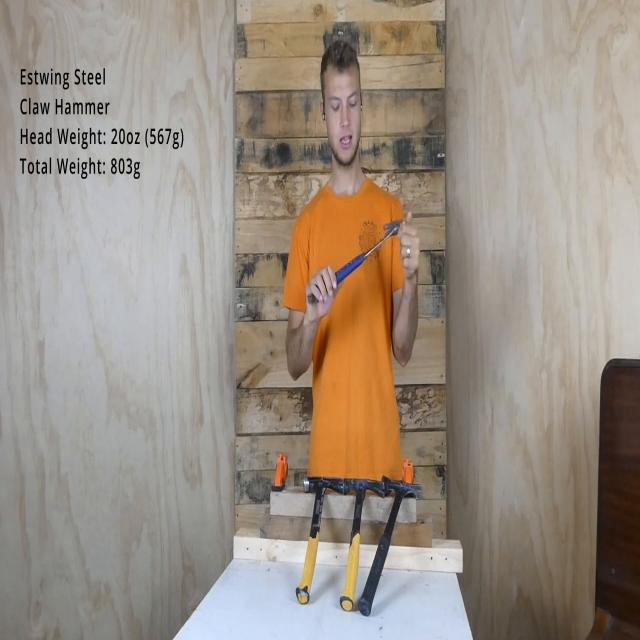hammer: (357, 473, 423, 617), (308, 217, 407, 307), (293, 468, 349, 610), (338, 460, 388, 616)
